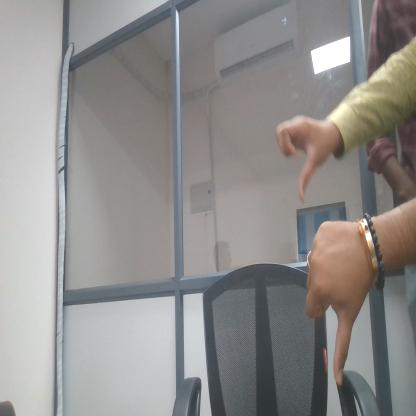Thumbs Down: (300, 214, 368, 394), (274, 108, 326, 204)
